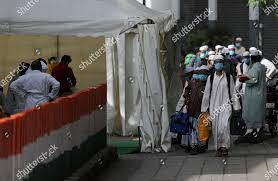mask: (197, 66, 208, 81), (214, 54, 224, 70), (197, 44, 206, 59), (192, 66, 200, 82), (183, 66, 191, 81), (243, 51, 250, 64), (228, 44, 235, 57), (233, 37, 241, 48)
